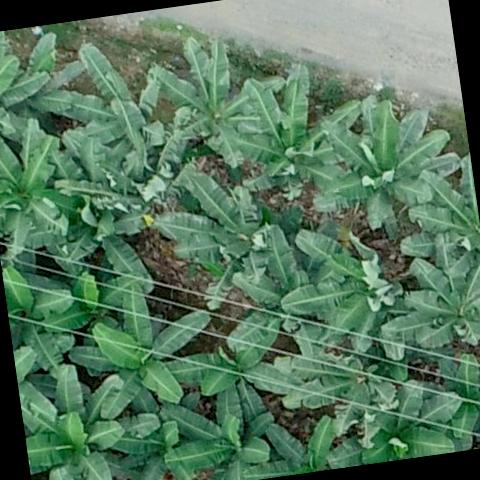Banana-plant: (64, 282, 216, 422), (310, 96, 462, 234), (224, 61, 364, 208), (150, 168, 277, 314), (273, 218, 401, 359), (152, 37, 286, 170), (48, 42, 169, 187), (156, 319, 300, 436), (214, 222, 329, 366), (16, 359, 129, 480), (52, 187, 162, 306), (321, 378, 461, 469), (288, 336, 409, 440), (374, 248, 480, 360), (156, 383, 277, 480), (0, 252, 78, 384), (0, 116, 72, 256), (0, 21, 85, 132), (38, 266, 145, 350), (403, 164, 480, 260), (238, 417, 343, 480), (419, 350, 480, 455), (103, 417, 193, 480)
